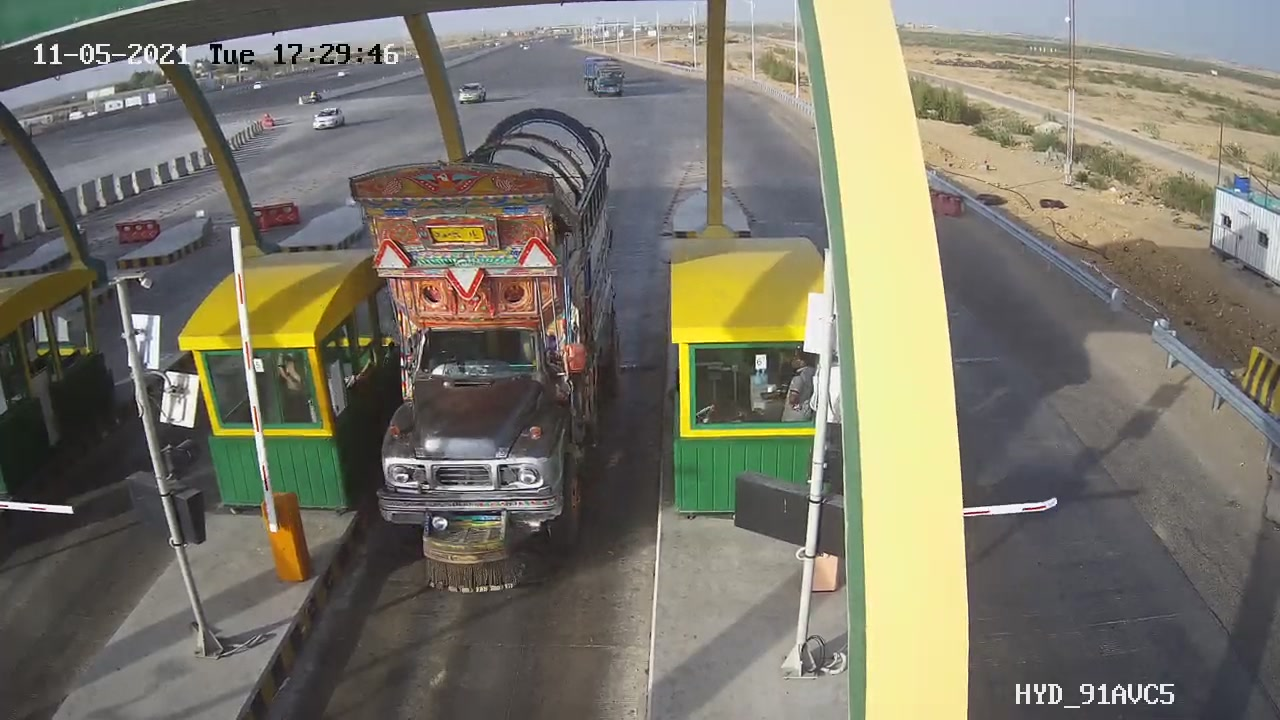F5: (333, 95, 644, 617)
